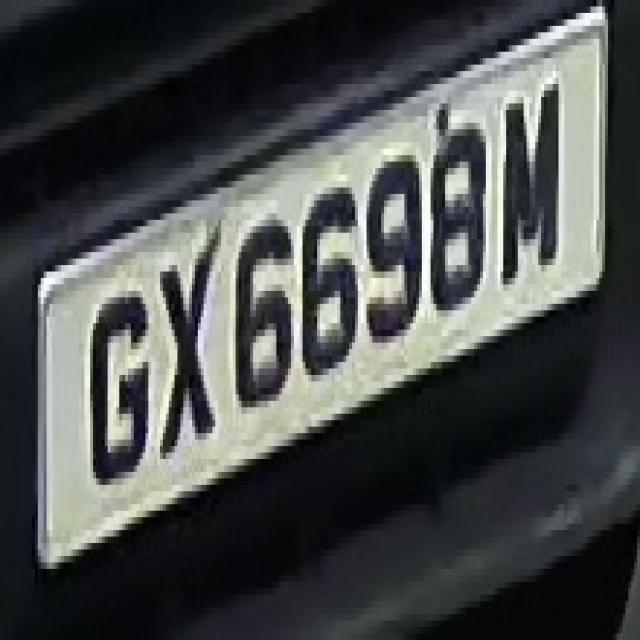6: (302, 161, 363, 388), (233, 207, 291, 433)
8: (428, 116, 488, 324)
9: (369, 142, 425, 349)
G: (87, 272, 157, 504)
M: (498, 78, 564, 298)
X: (154, 233, 218, 478)
